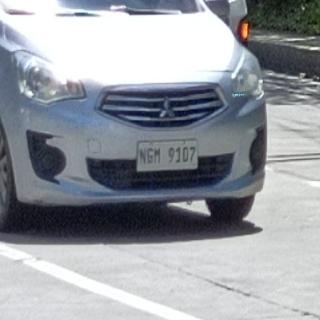license: (138, 142, 199, 172)
